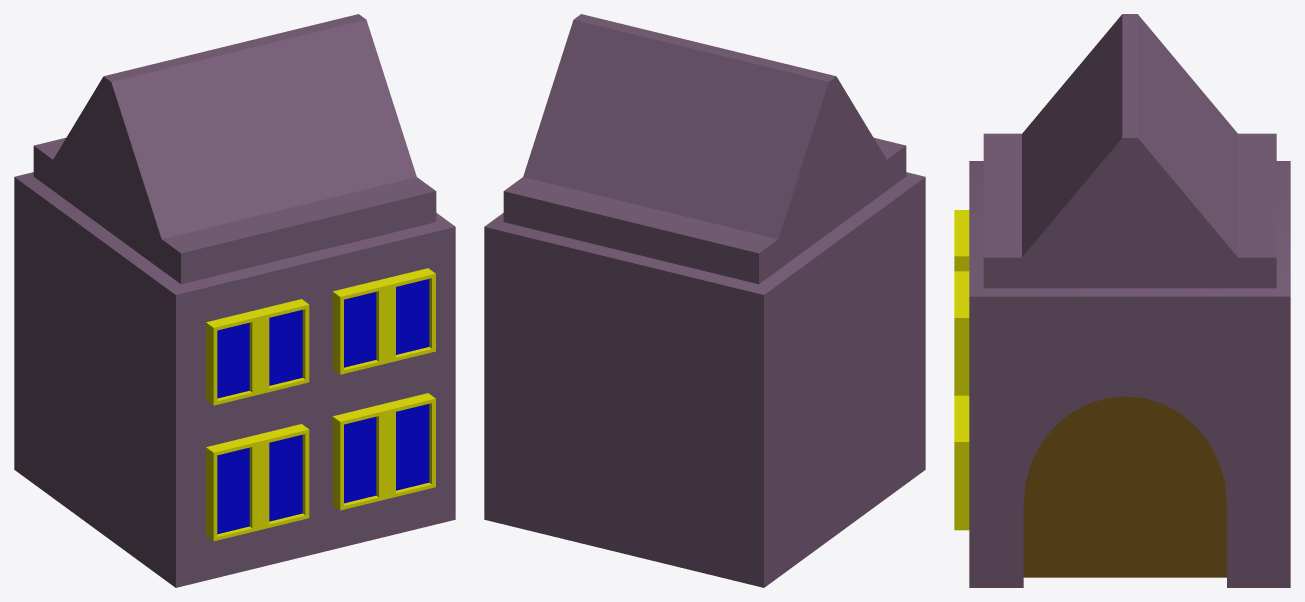
3 views of the same model, side by side, from view 1: azimuth 30°, elevation 25°; view 2: azimuth 150°, elevation 25°; view 3: azimuth 270°, elevation 25° (orthographic).
Visible parts, largest first — view 1: polySurface3, pCube18, pCube10, pCube17, pCube6; view 2: polySurface3; view 3: polySurface3, pCube10, pCube6, pCube17.
Boxes of the visible parts, bbox=[...] form: polySurface3: bbox=[14, 14, 455, 587]; pCube18: bbox=[206, 424, 309, 541]; pCube10: bbox=[332, 393, 435, 510]; pCube17: bbox=[206, 299, 309, 405]; pCube6: bbox=[332, 268, 435, 374]; polySurface3: bbox=[484, 14, 925, 587]; polySurface3: bbox=[969, 14, 1290, 587]; pCube10: bbox=[954, 395, 969, 530]; pCube6: bbox=[954, 271, 969, 395]; pCube17: bbox=[954, 210, 969, 271].
Bounding box in the file's own units: 1640 × 2501 × 1717.
